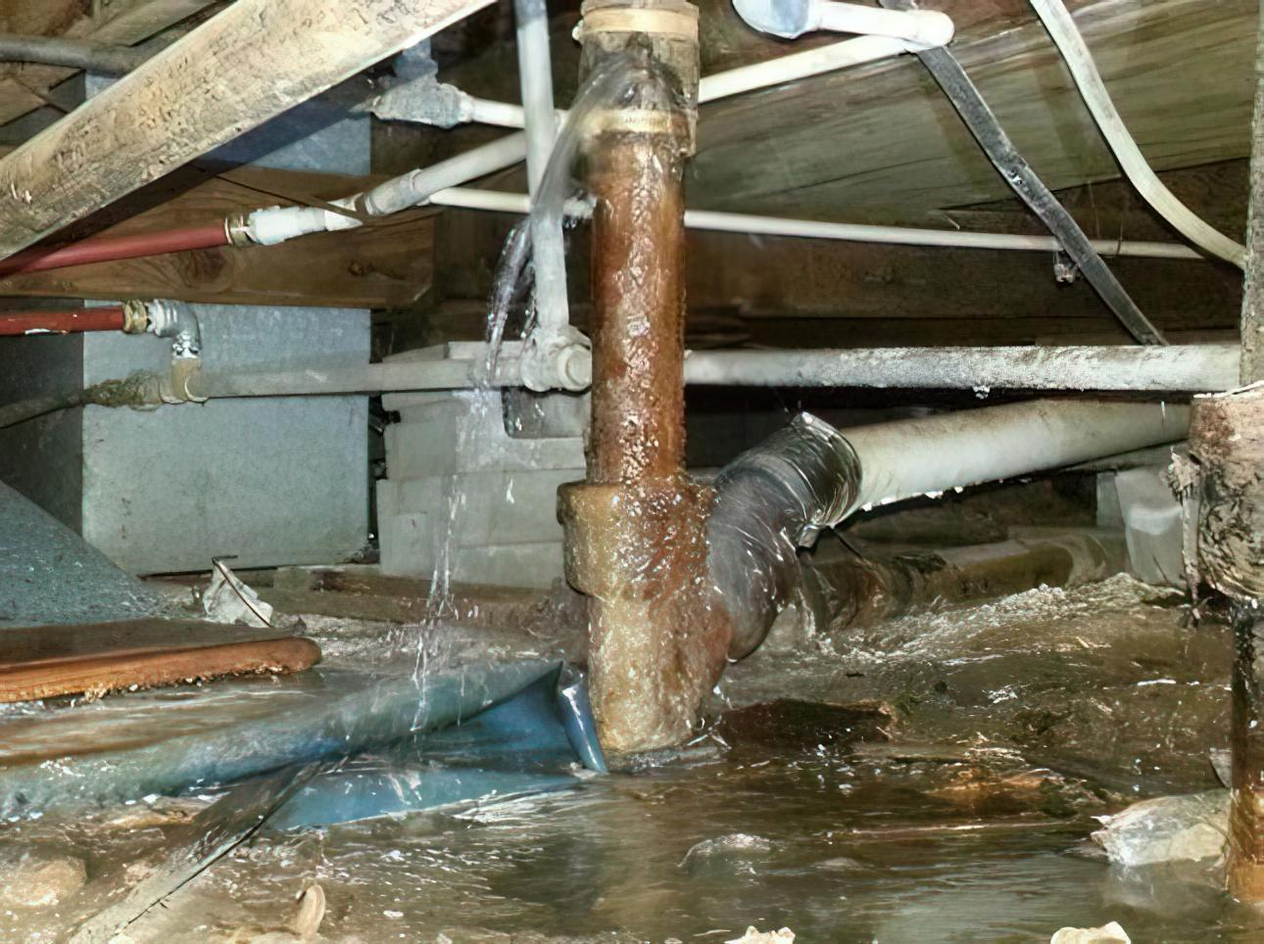pipe burst: (410, 24, 672, 755)
water accumulation: (0, 635, 1264, 944)
